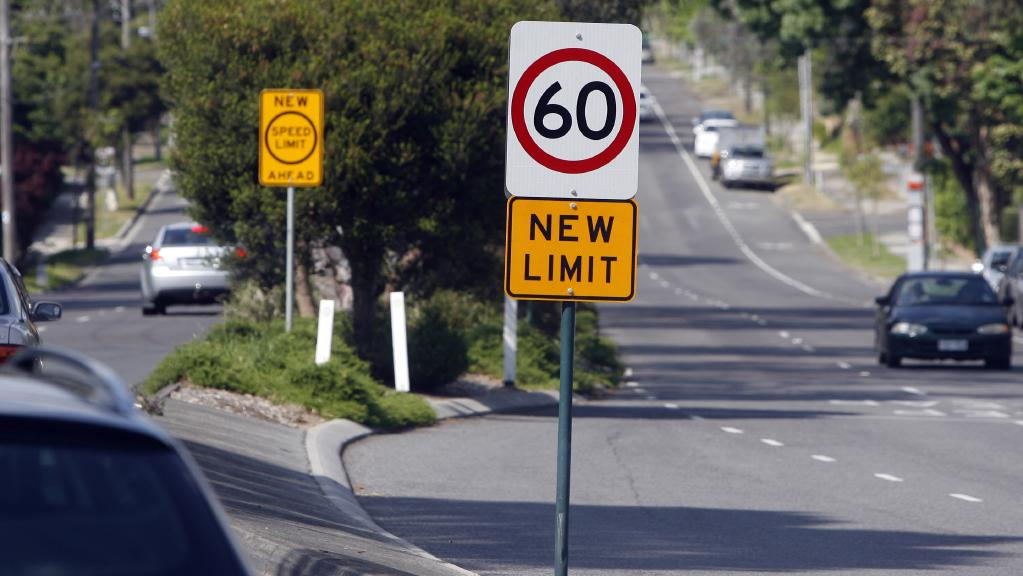Speed_limit_60km: (512, 47, 641, 173)
